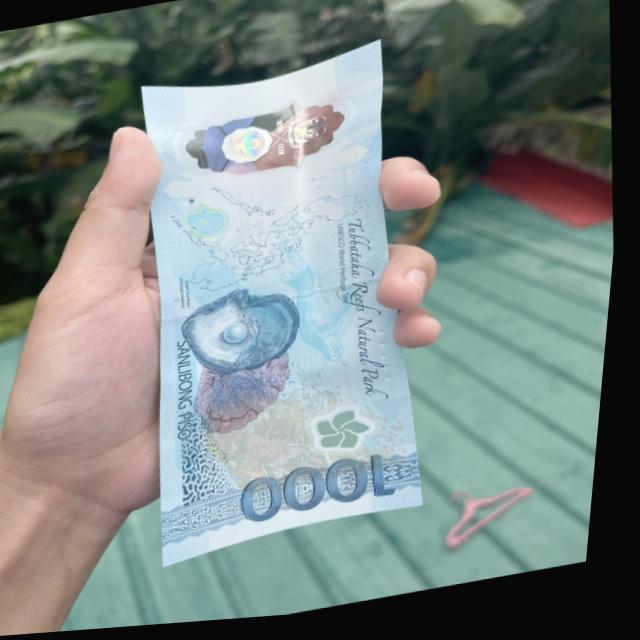clear_window: (141, 81, 390, 199)
sampaguita: (314, 404, 389, 463)
security_thread: (165, 266, 396, 318)
